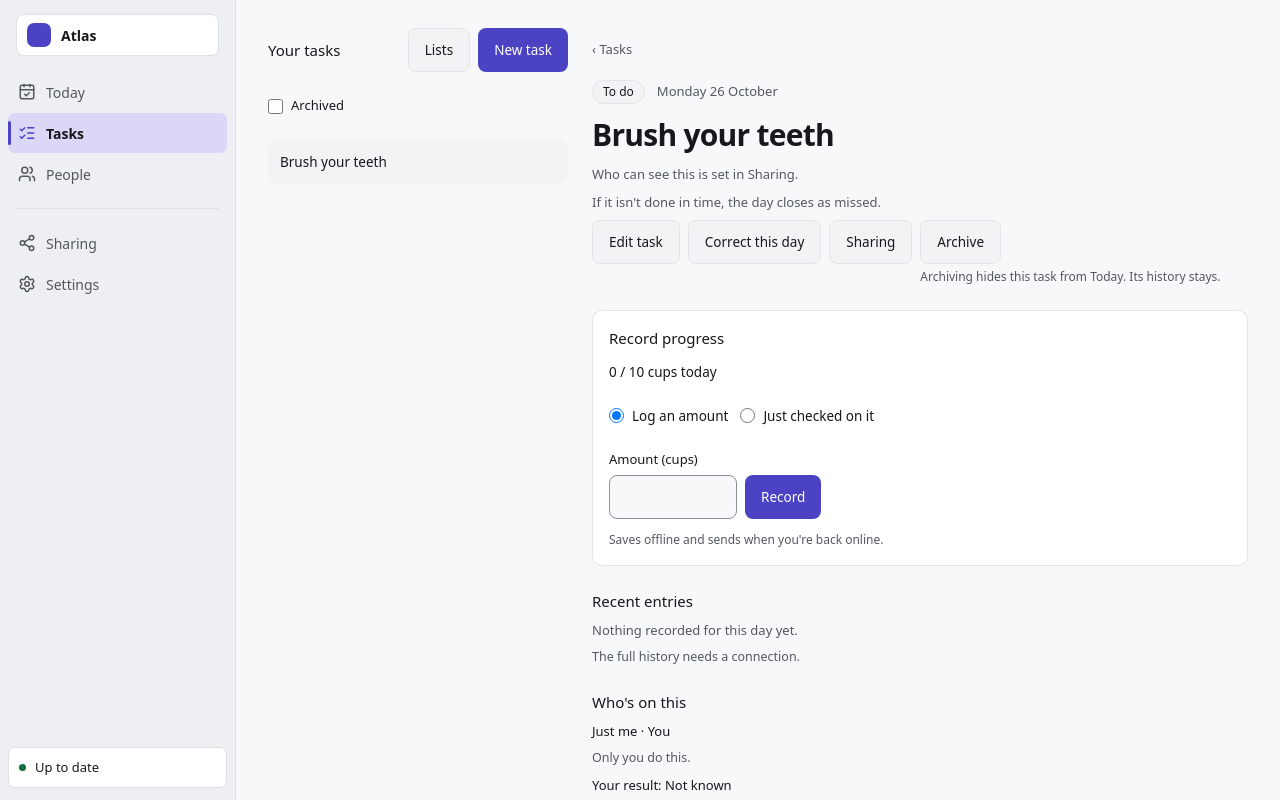
R36: the same dialog instance, away and back before the acknowledgement › control: staying, acknowledged: the dialog closes; reopened, the next Save writes 13
Click the button "Correct this day" at (755, 242), box [688, 220, 821, 264]
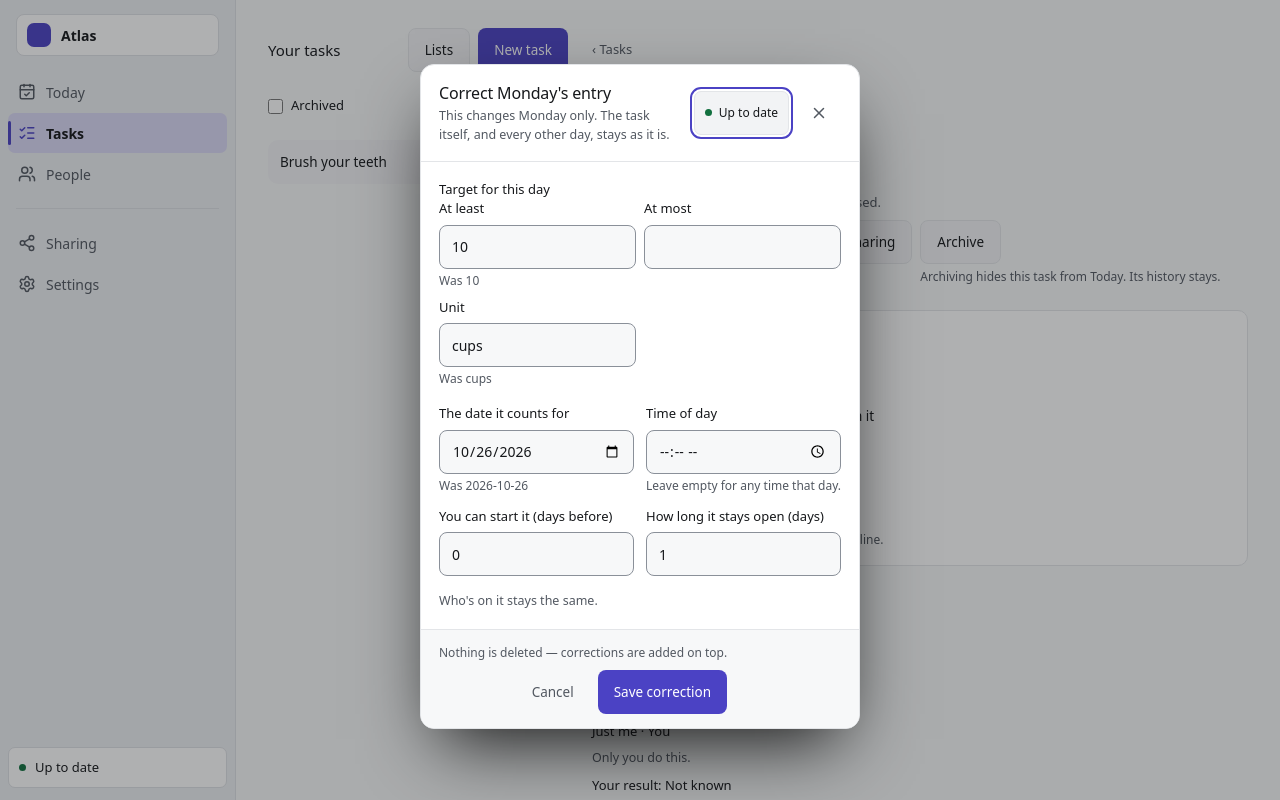
Replace the text in the field labelled "At least" with "12" at (538, 246), box [439, 224, 636, 268]
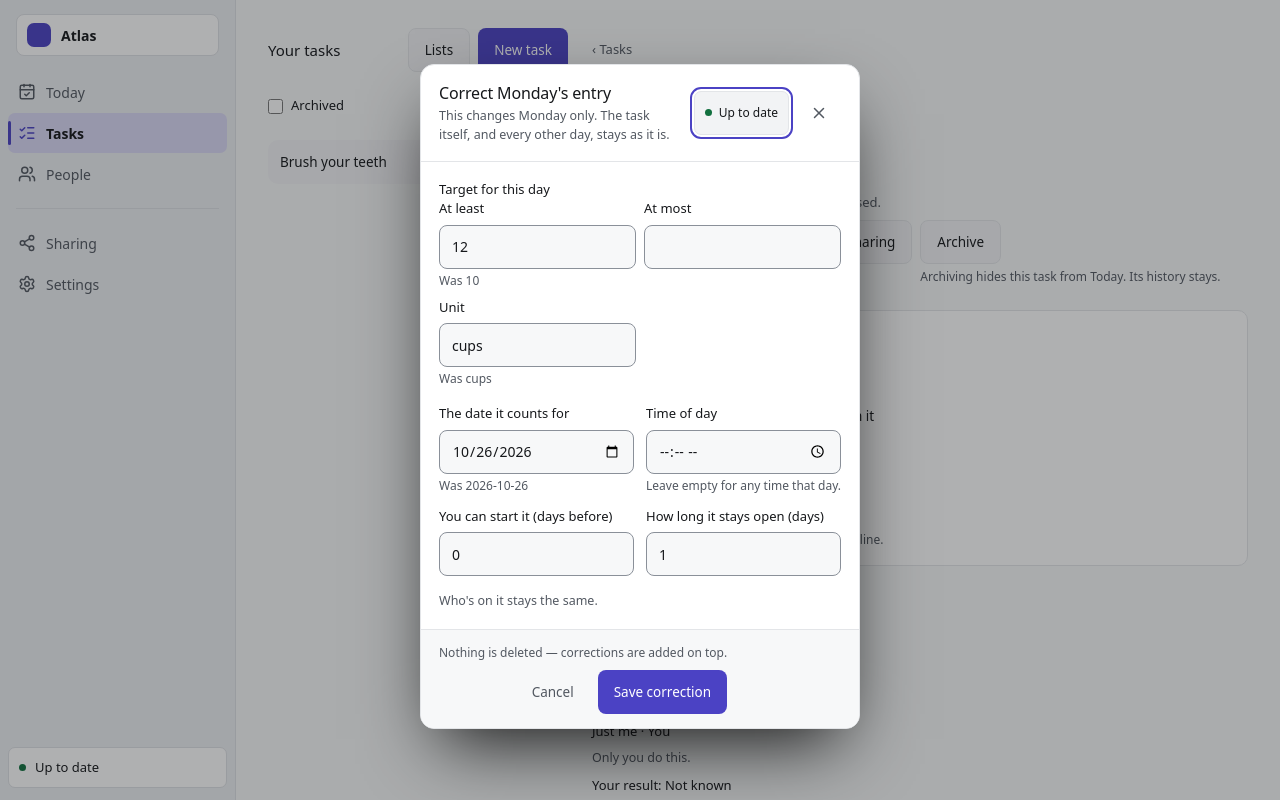
Click the button "Save correction" at (662, 692), box [598, 670, 727, 714]
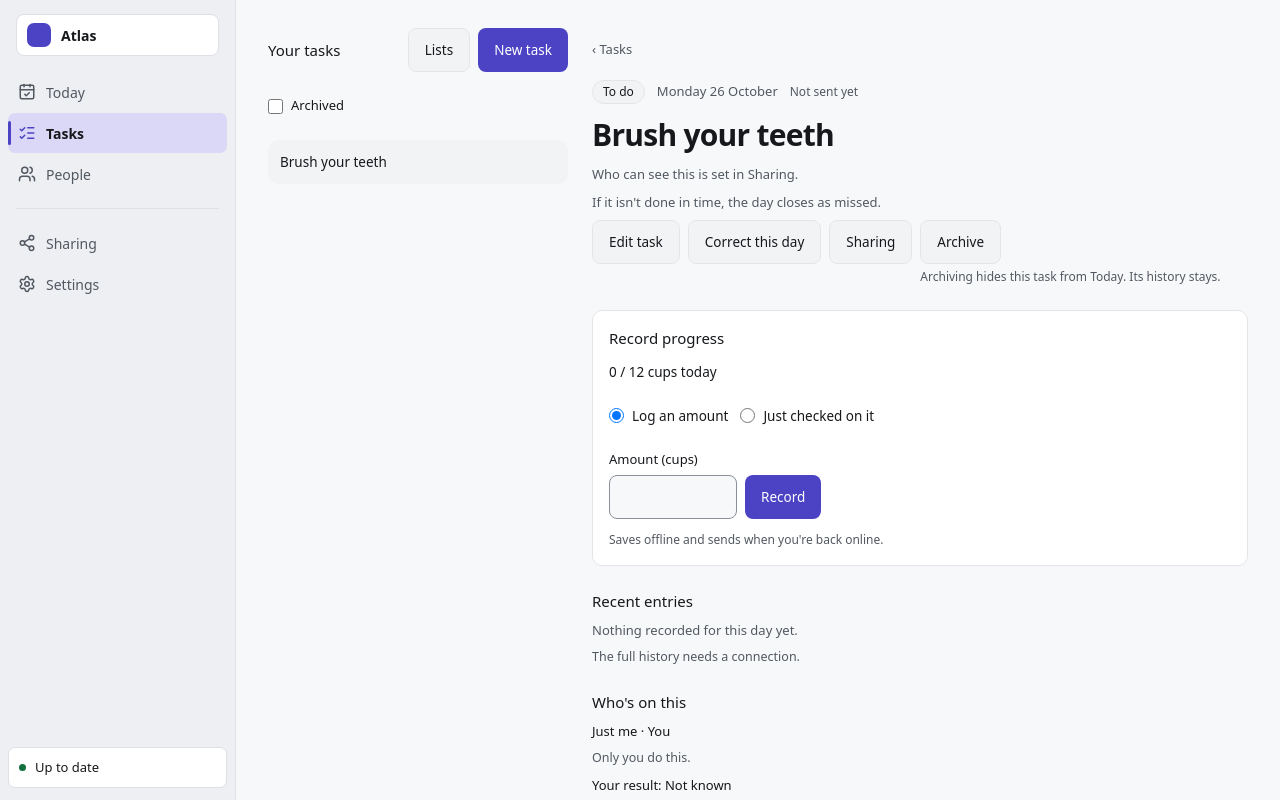
Now the dialog is gone
Click the button "Correct this day" at (755, 242), box [688, 220, 821, 264]
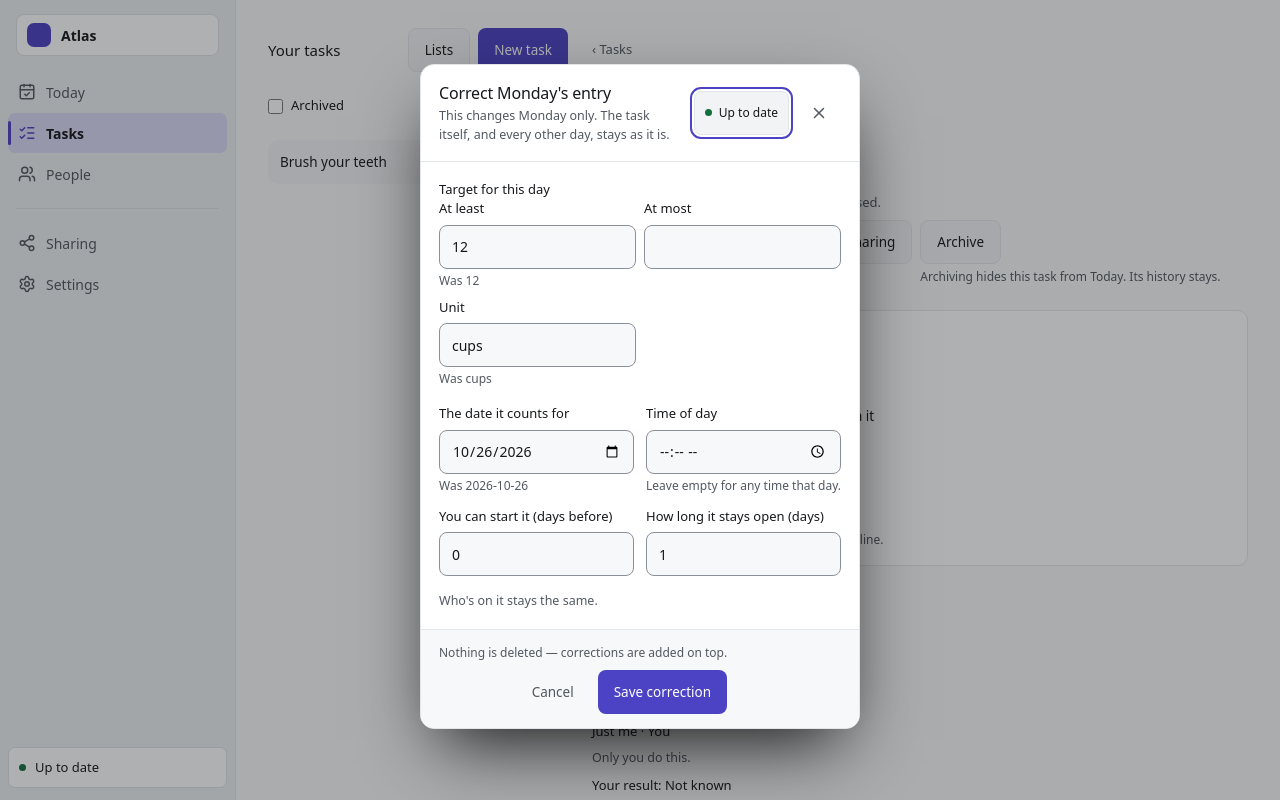
Replace the text in the field labelled "At least" with "13" at (538, 246), box [439, 224, 636, 268]
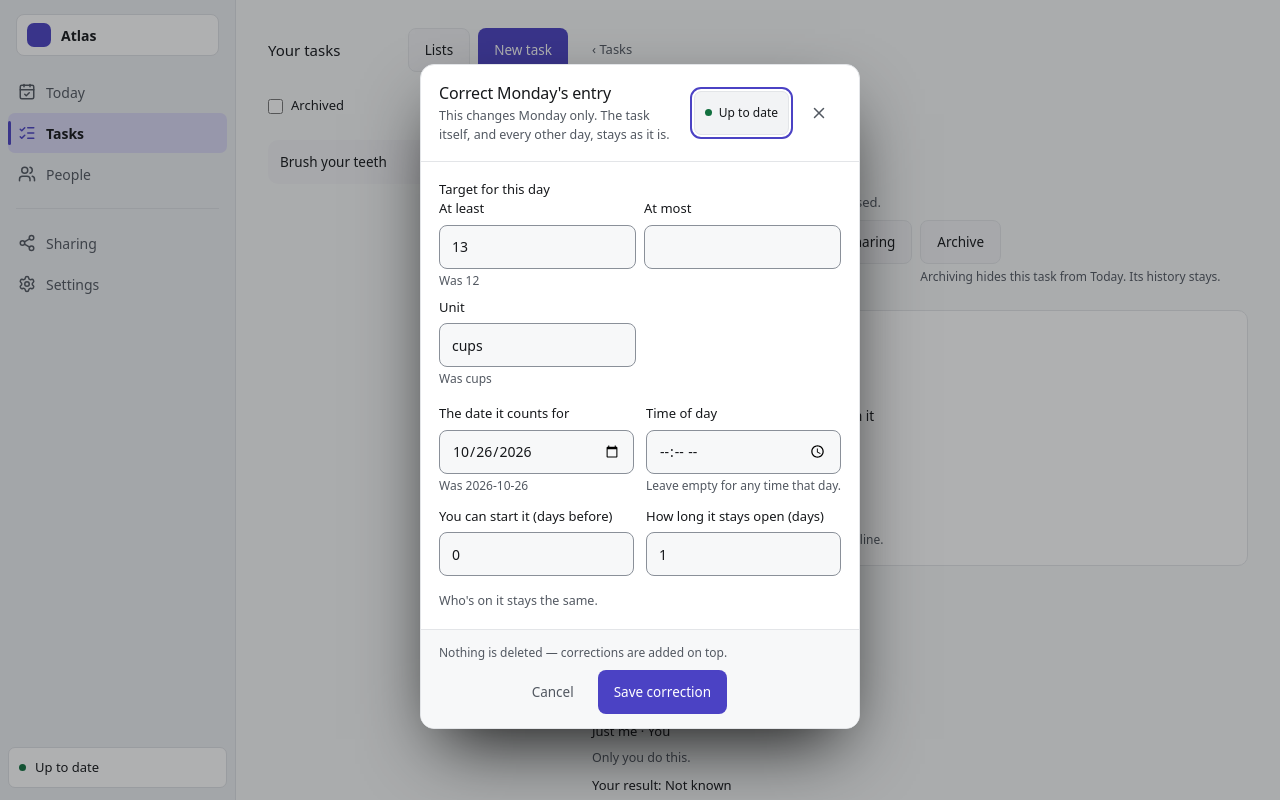
Click the button "Save correction" at (662, 692), box [598, 670, 727, 714]
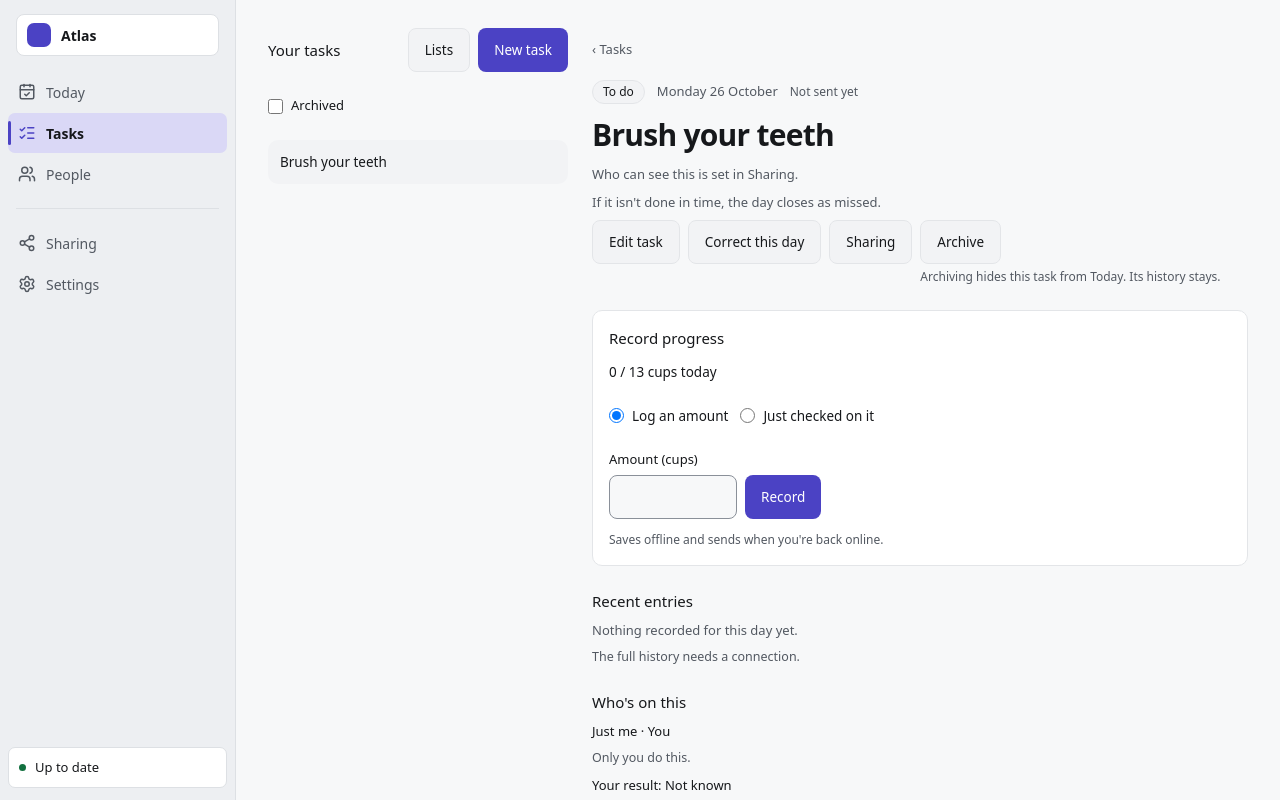
Now the dialog is gone
